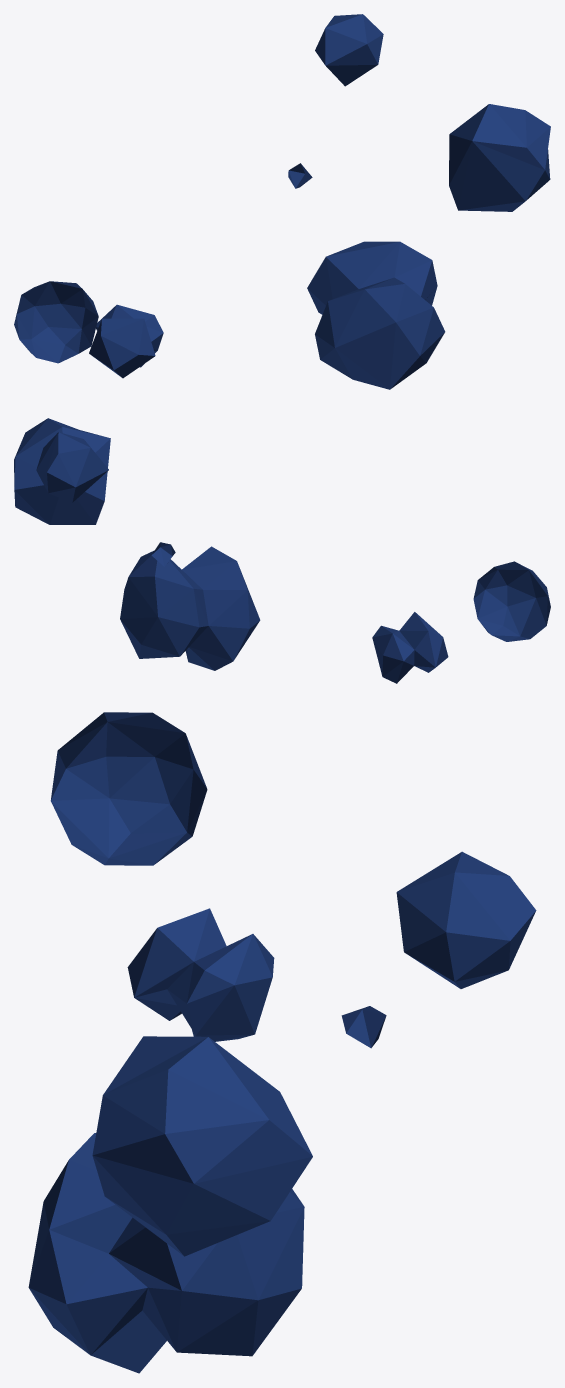
The model's file is island1_stone2.obj.
3 renders of one model, top to bottom at view 1: azimuth 30°, elevation 25°; view 2: azimuth 150°, elevation 25°; view 3: azimuth 270°, elevation 25°, orthographic. The views are drawn at different scales.
Parts seen in each view (by area): view 1: Icosphere.000_Icosphere.009; view 2: Icosphere.000_Icosphere.009; view 3: Icosphere.000_Icosphere.009.
Boxes of the visible parts, <box> form: Icosphere.000_Icosphere.009: <box>14,14,550,389</box>; Icosphere.000_Icosphere.009: <box>14,418,550,683</box>; Icosphere.000_Icosphere.009: <box>28,712,536,1373</box>.
Bounding box in the file's own units: 33.92 × 17.31 × 14.47.
